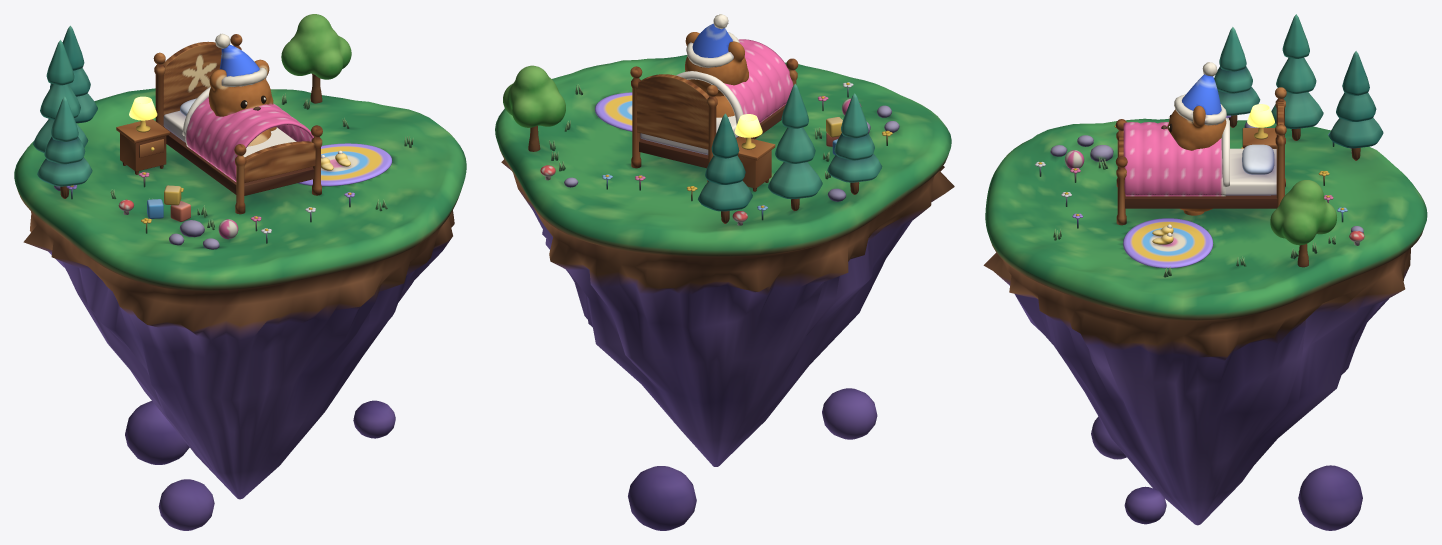
The model's file is wake.glb.
3 renders of one model, left to right at view 1: azimuth 30°, elevation 25°; view 2: azimuth 150°, elevation 25°; view 3: azimuth 270°, elevation 25°, orthographic.
Parts seen in each view (by area): view 1: Island, BedWood, BlanketMesh, BedSoft, HeadMesh, CapMesh, LampShade; view 2: Island, BedWood, BlanketMesh, BedSoft, CapMesh, HeadMesh, LampShade; view 3: Island, BlanketMesh, BedSoft, BedWood, CapMesh, HeadMesh, LampShade.
Part boxes in pixels (x1=…): Island: x1=14, y1=14, x2=466, y2=530; BedWood: x1=116, y1=34, x2=322, y2=214; BlanketMesh: x1=182, y1=86, x2=313, y2=181; BedSoft: x1=163, y1=98, x2=392, y2=186; HeadMesh: x1=208, y1=59, x2=273, y2=116; CapMesh: x1=215, y1=33, x2=267, y2=86; LampShade: x1=129, y1=96, x2=157, y2=120; Island: x1=495, y1=55, x2=954, y2=530; BedWood: x1=630, y1=58, x2=798, y2=191; BlanketMesh: x1=676, y1=39, x2=793, y2=125; BedSoft: x1=595, y1=92, x2=738, y2=154; CapMesh: x1=686, y1=14, x2=739, y2=67; HeadMesh: x1=685, y1=32, x2=748, y2=96; LampShade: x1=734, y1=114, x2=762, y2=137; Island: x1=983, y1=14, x2=1427, y2=530; BlanketMesh: x1=1123, y1=118, x2=1229, y2=196; BedSoft: x1=1123, y1=144, x2=1276, y2=268; BedWood: x1=1115, y1=87, x2=1286, y2=225; CapMesh: x1=1174, y1=62, x2=1226, y2=125; HeadMesh: x1=1167, y1=105, x2=1226, y2=150; LampShade: x1=1247, y1=104, x2=1274, y2=127.
Bounding box in the file's own units: 6.3 × 7.3 × 6.31.
